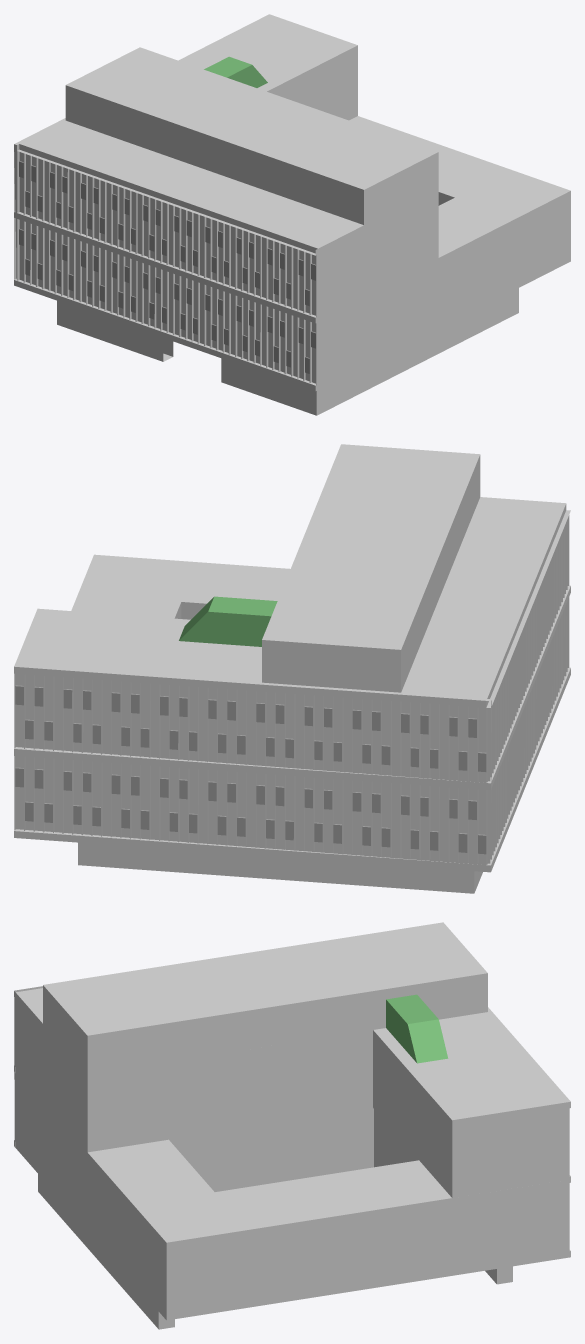
The picture shows the model from 3 angles, top to bottom: view 1: azimuth 30°, elevation 25°; view 2: azimuth 150°, elevation 25°; view 3: azimuth 270°, elevation 25°; orthographic projection. The views are drawn at different scales.
Size of the model in its own units: 65.48 by 30 by 64.9.
